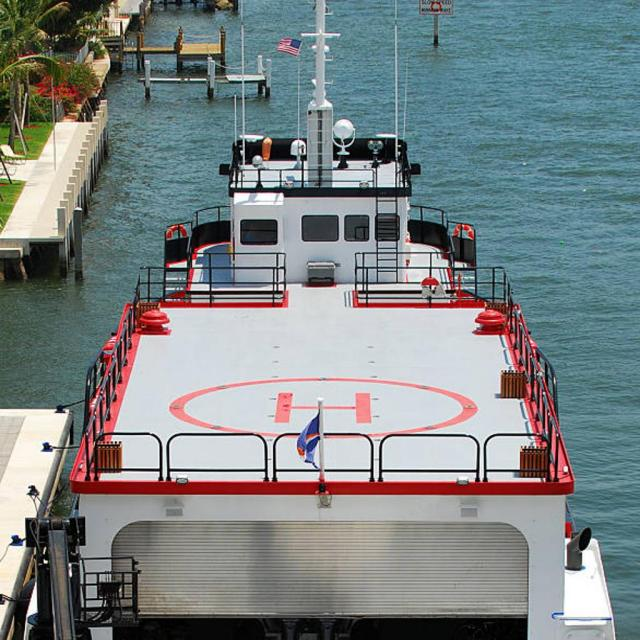helipad: (167, 376, 477, 438)
